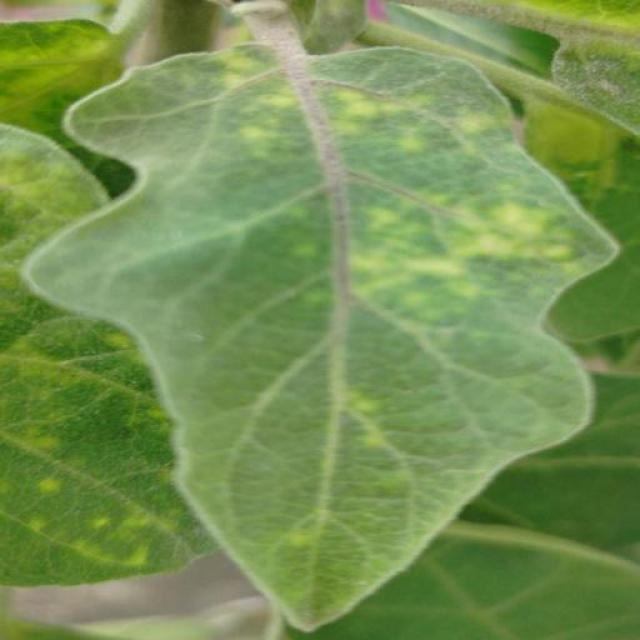leaf_spot: (342, 226, 484, 334), (6, 92, 118, 228), (2, 7, 139, 115), (525, 24, 640, 137), (518, 78, 622, 202), (450, 189, 580, 263), (327, 79, 448, 156), (0, 140, 75, 251), (2, 328, 92, 419), (277, 184, 335, 322), (309, 374, 406, 454), (237, 76, 310, 170), (474, 0, 640, 39), (67, 530, 156, 590), (449, 100, 530, 165), (216, 13, 280, 89), (272, 574, 357, 623), (354, 528, 410, 602), (99, 306, 148, 378), (363, 189, 421, 247), (120, 396, 187, 445), (4, 268, 56, 324), (10, 422, 66, 466), (110, 513, 190, 540), (140, 462, 188, 501), (516, 270, 556, 314), (29, 470, 72, 504), (0, 250, 54, 276), (18, 513, 54, 549), (284, 520, 308, 545), (89, 514, 112, 535), (370, 477, 426, 485)
